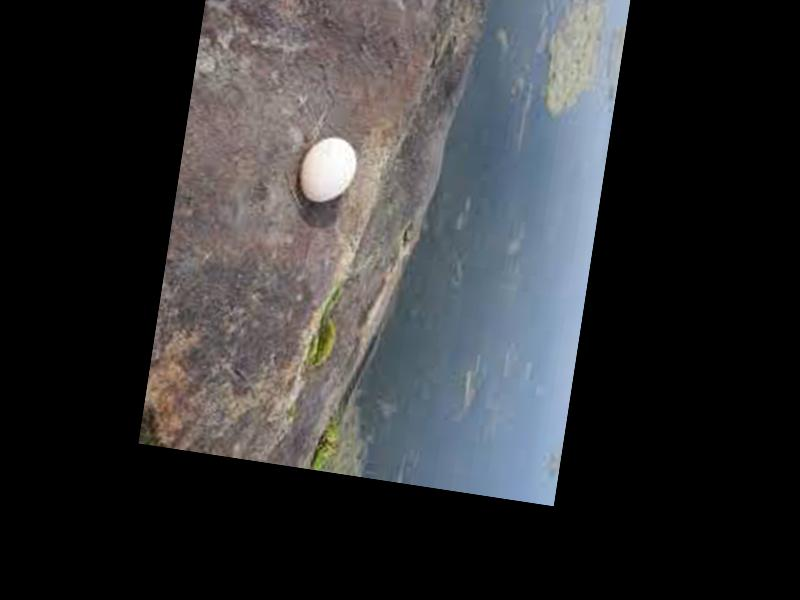Eggs: (297, 129, 361, 206)
